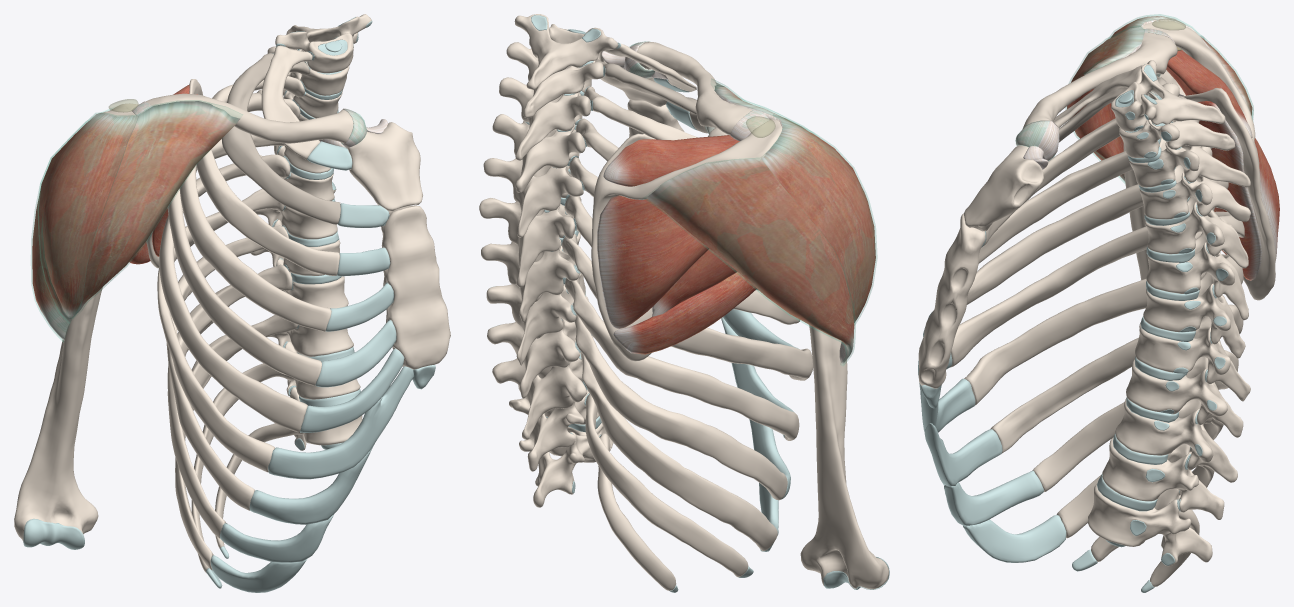
The model's file is upper-limb-scapulohumeral-muscles.glb.
3 renders of one model, left to right at view 1: azimuth 30°, elevation 25°; view 2: azimuth 150°, elevation 25°; view 3: azimuth 270°, elevation 25°, orthographic. The views are drawn at different scales.
Visible parts, largest first — view 1: Deltoid muscle.r, Humerus.r, Body of sternum, Clavicular part of deltoid muscle.r, Rib (6th).r, Acromial part of deltoid muscle.r, Rib (4th).r, Rib (5th).r, Rib (7th).r, Rib (3rd).r, Rib (2nd).r, Manubrium of sternum (+30 smaller); view 2: Deltoid muscle.r, Humerus.r, Infraspinatus muscle.r, Spinal part of deltoid muscle.r, Rib (9th).r, Rib (10th).r, Rib (8th).r, Rib (11th).r, Scapula.r., Teres major muscle.r, Rib (7th).r, Supraspinatus muscle.r (+29 smaller); view 3: Rib (7th).r, Scapula.r., Rib (6th).r, Body of sternum, Rib (5th).r, Thoracic vertebra (T12), Rib (8th).r, Thoracic vertebra (T10), Thoracic vertebra (T11), Thoracic vertebra (T9), Rib (4th).r, Deltoid muscle.r (+32 smaller).
Boxes of the visible parts, box(x1,y1,x2,y2) form: Deltoid muscle.r: box(32, 101, 239, 340); Humerus.r: box(14, 287, 102, 541); Body of sternum: box(381, 205, 450, 369); Clavicular part of deltoid muscle.r: box(77, 100, 242, 312); Rib (6th).r: box(159, 154, 307, 432); Acromial part of deltoid muscle.r: box(37, 112, 138, 323); Rib (4th).r: box(179, 93, 331, 331); Rib (5th).r: box(167, 134, 321, 385); Rib (7th).r: box(157, 188, 284, 472); Rib (3rd).r: box(196, 76, 339, 275); Rib (2nd).r: box(221, 53, 340, 224); Manubrium of sternum: box(347, 122, 422, 211); Deltoid muscle.r: box(646, 82, 875, 364); Humerus.r: box(800, 325, 888, 589); Infraspinatus muscle.r: box(597, 195, 709, 328); Spinal part of deltoid muscle.r: box(644, 158, 855, 365); Rib (9th).r: box(574, 315, 787, 500); Rib (10th).r: box(580, 352, 777, 551); Rib (8th).r: box(564, 278, 799, 440); Rib (11th).r: box(585, 394, 748, 577); Scapula.r.: box(591, 119, 782, 361); Teres major muscle.r: box(613, 272, 756, 354); Rib (7th).r: box(562, 234, 813, 380); Supraspinatus muscle.r: box(603, 135, 739, 186); Rib (7th).r: box(964, 254, 1243, 405); Scapula.r.: box(1142, 21, 1275, 300); Rib (6th).r: box(950, 211, 1244, 367); Body of sternum: box(918, 213, 985, 388); Rib (5th).r: box(966, 179, 1228, 304); Thoracic vertebra (T12): box(1088, 484, 1212, 566); Rib (8th).r: box(990, 304, 1243, 453); Thoracic vertebra (T10): box(1115, 398, 1237, 482); Thoracic vertebra (T11): box(1102, 437, 1224, 519); Thoracic vertebra (T9): box(1126, 357, 1243, 437); Rib (4th).r: box(978, 146, 1212, 263); Deltoid muscle.r: box(1067, 16, 1252, 181).
Size of the model in its own units: 0.2874 by 0.4006 by 0.2324.
44 materials, 6 textured.
